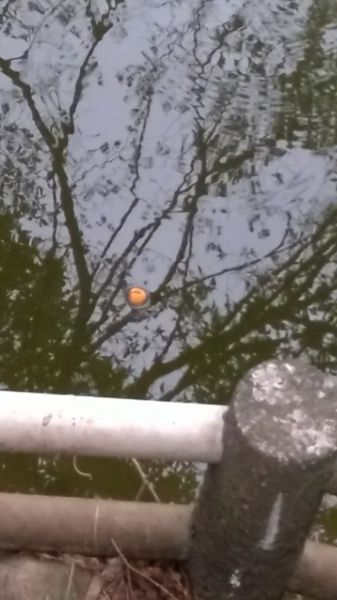eggs: (121, 284, 152, 311)
